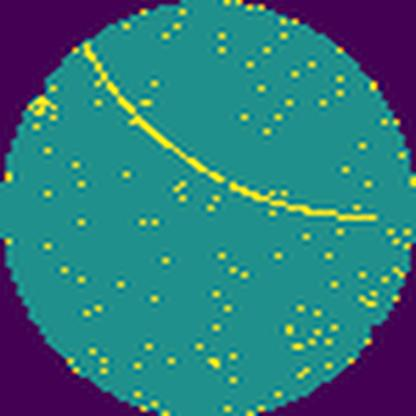Scratch: (79, 40, 383, 227)
